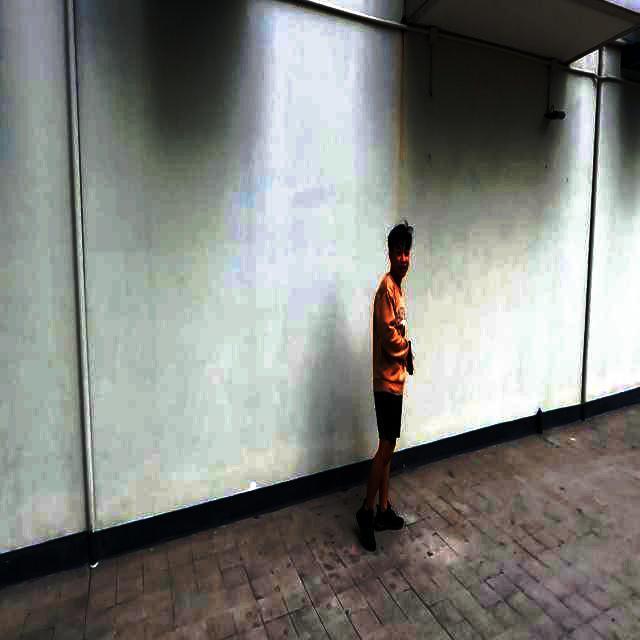Gun: (394, 338, 420, 388)
